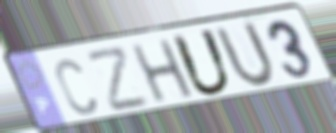3: (264, 16, 322, 82)
C: (52, 57, 100, 118)
H: (128, 37, 198, 106)
U: (168, 27, 235, 99), (211, 20, 278, 90)
Z: (84, 43, 153, 115)
